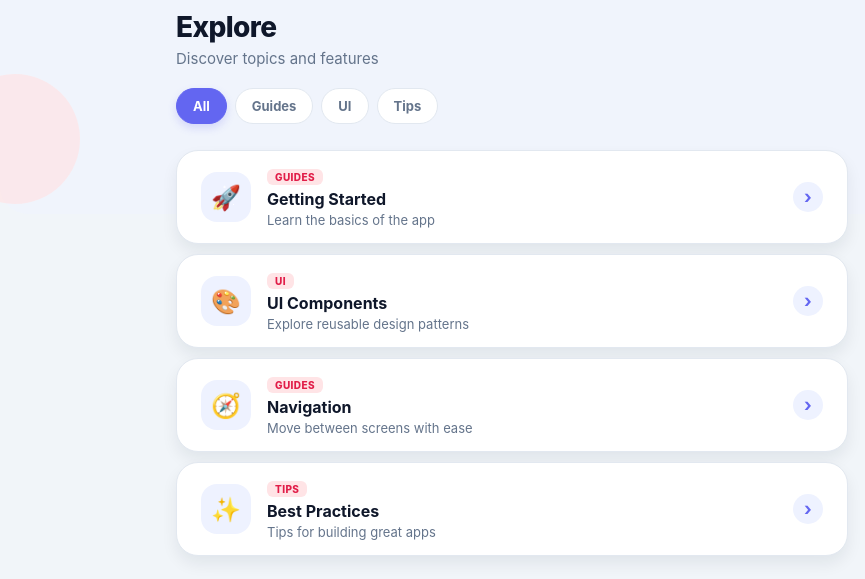
it: ExploreScreen › renders filter chips and filters items by tag
Expected: the element named "filters" is shown, x1=176 y1=88 x2=438 y2=124
Expected: the button "All" is shown, x1=176 y1=88 x2=227 y2=124
Click the button "Tips": (407, 106) x1=376 y1=88 x2=438 y2=124
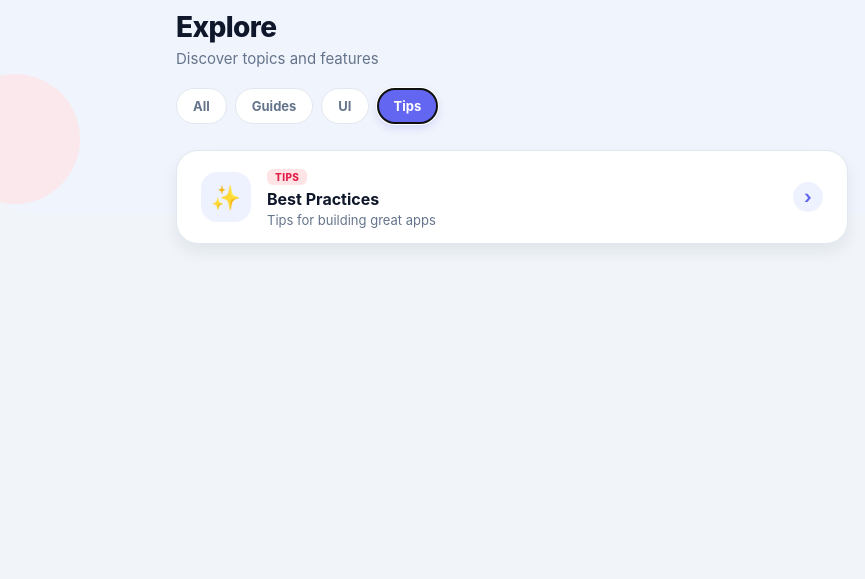
Expected: the button "✨ Tips Best Practices Tips for building great apps ›" is shown, x1=176 y1=150 x2=848 y2=244
Expected: the button "Getting Started" is gone
Click the button "All": (201, 106) x1=176 y1=88 x2=227 y2=124
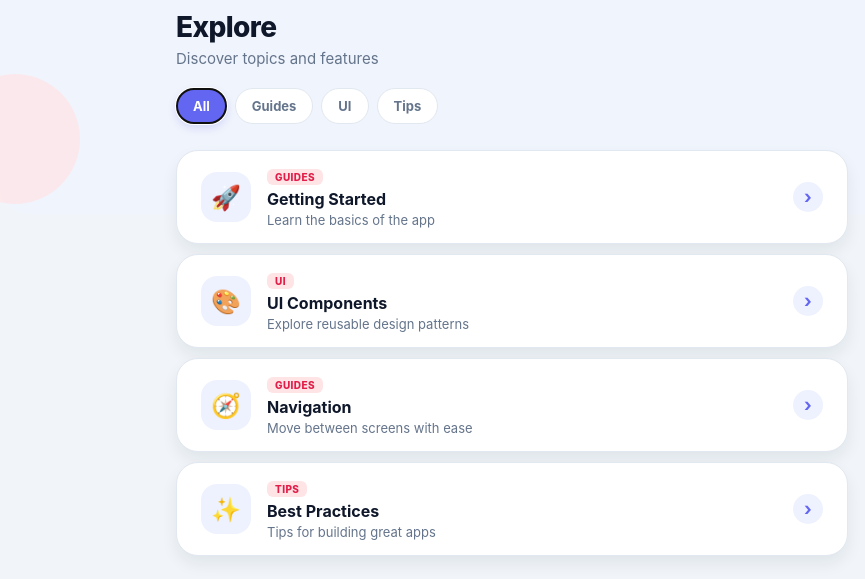
Expected: the button "🚀 Guides Getting Started Learn the basics of the app ›" is shown, x1=176 y1=150 x2=848 y2=244
